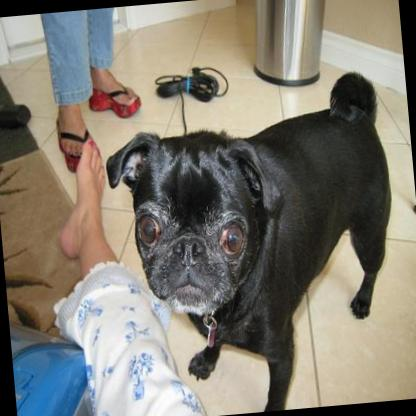pug: (95, 67, 407, 416)
